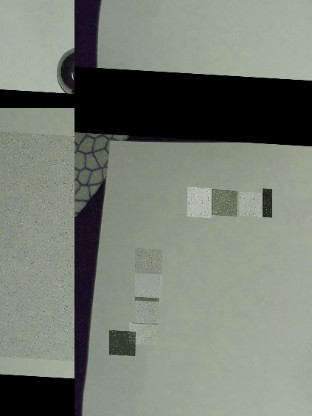ironball: (0, 125, 74, 360), (56, 45, 76, 93), (135, 271, 162, 300), (187, 184, 212, 215), (132, 295, 159, 323), (135, 246, 162, 272), (211, 186, 237, 213), (109, 328, 135, 354), (129, 320, 158, 343), (239, 188, 263, 214), (262, 185, 272, 214)
